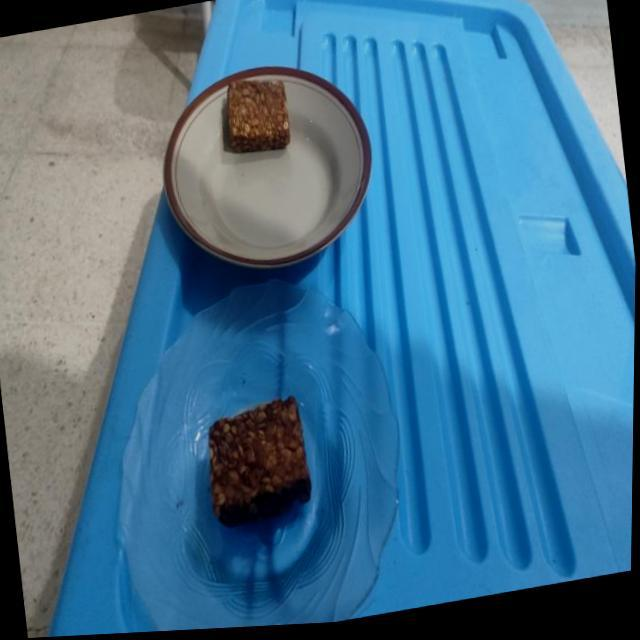tempe_goreng: (208, 396, 310, 526), (227, 79, 290, 152)
